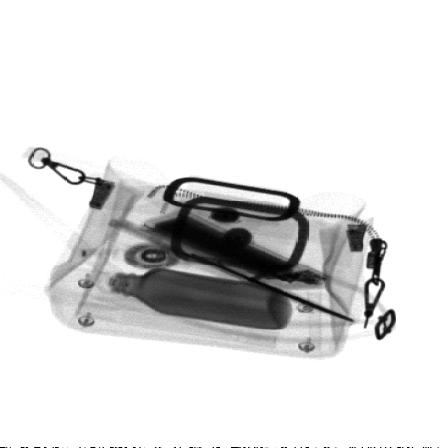Powerbank: (137, 206, 336, 294)
Scissors: (104, 216, 364, 329)
